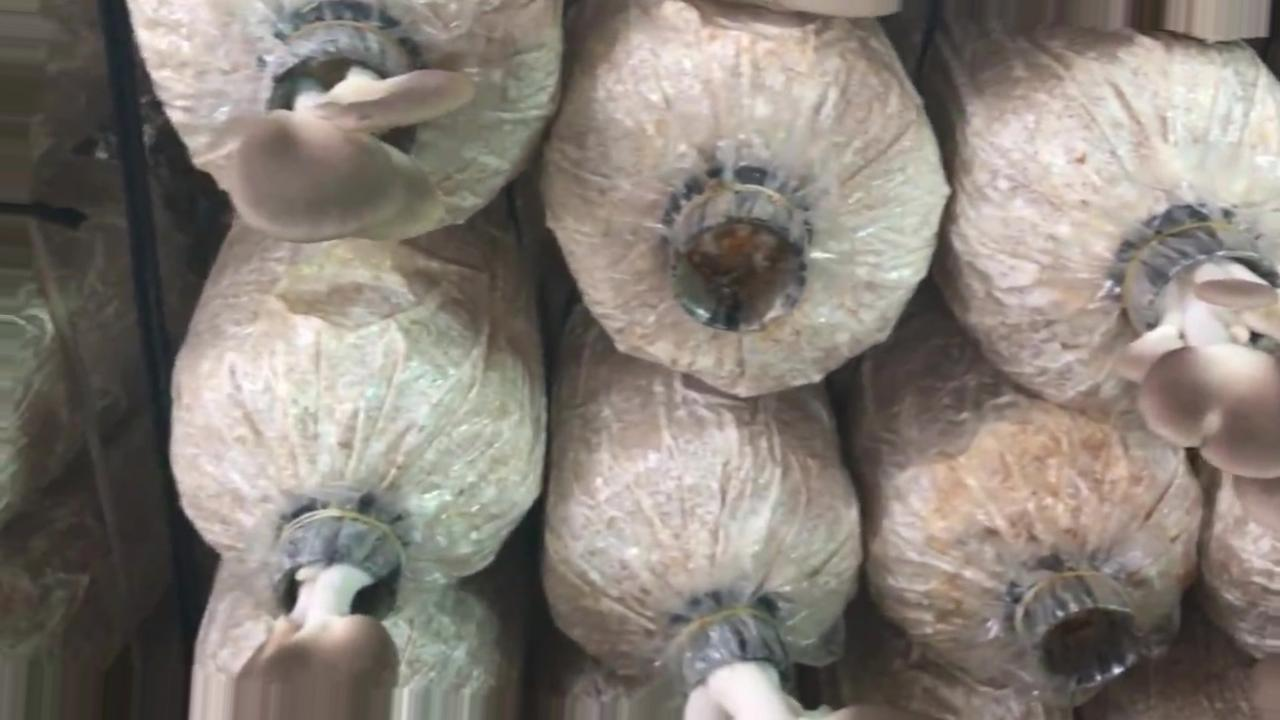nam: (228, 17, 482, 241), (1114, 218, 1280, 483), (236, 506, 413, 720)
